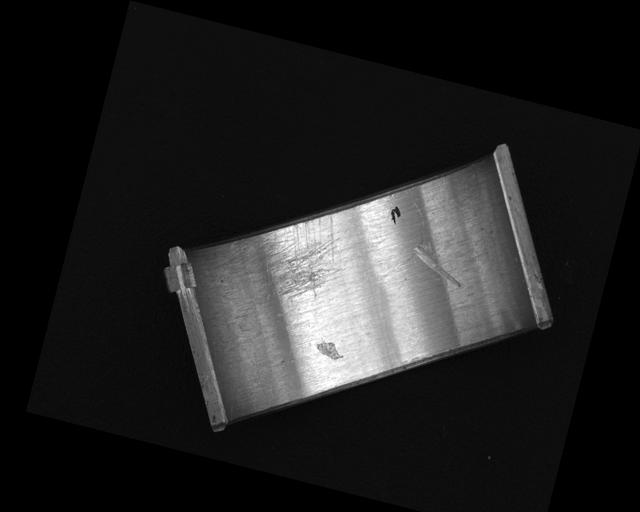blot: (387, 204, 403, 225)
bruise: (312, 337, 347, 362)
nick: (386, 185, 431, 270), (406, 243, 468, 288)
scratch: (225, 192, 355, 316)
